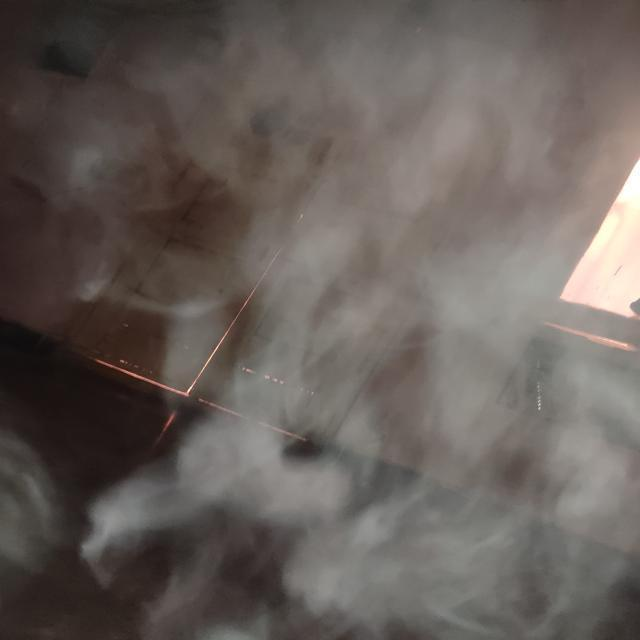fire: (103, 31, 620, 625)
